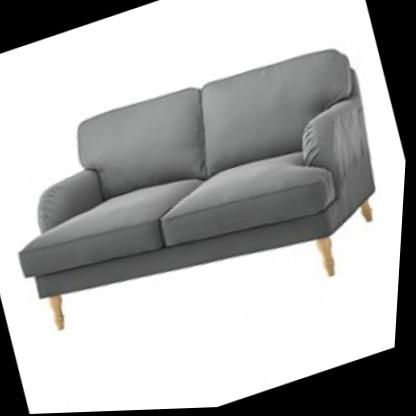Sofa: (0, 3, 415, 375)
